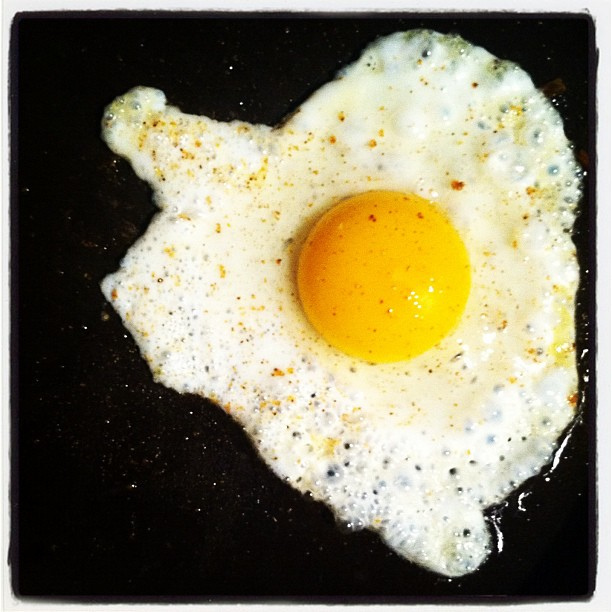fried egg: (99, 35, 575, 572)
